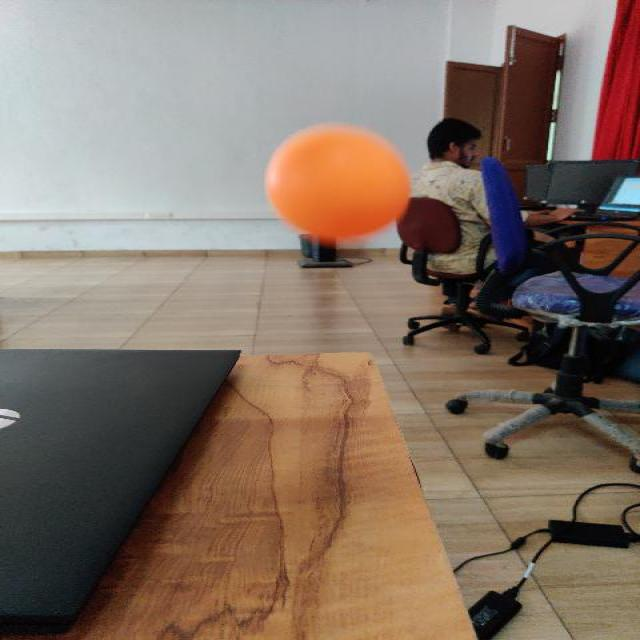ping-pong-ball: (267, 122, 408, 234)
